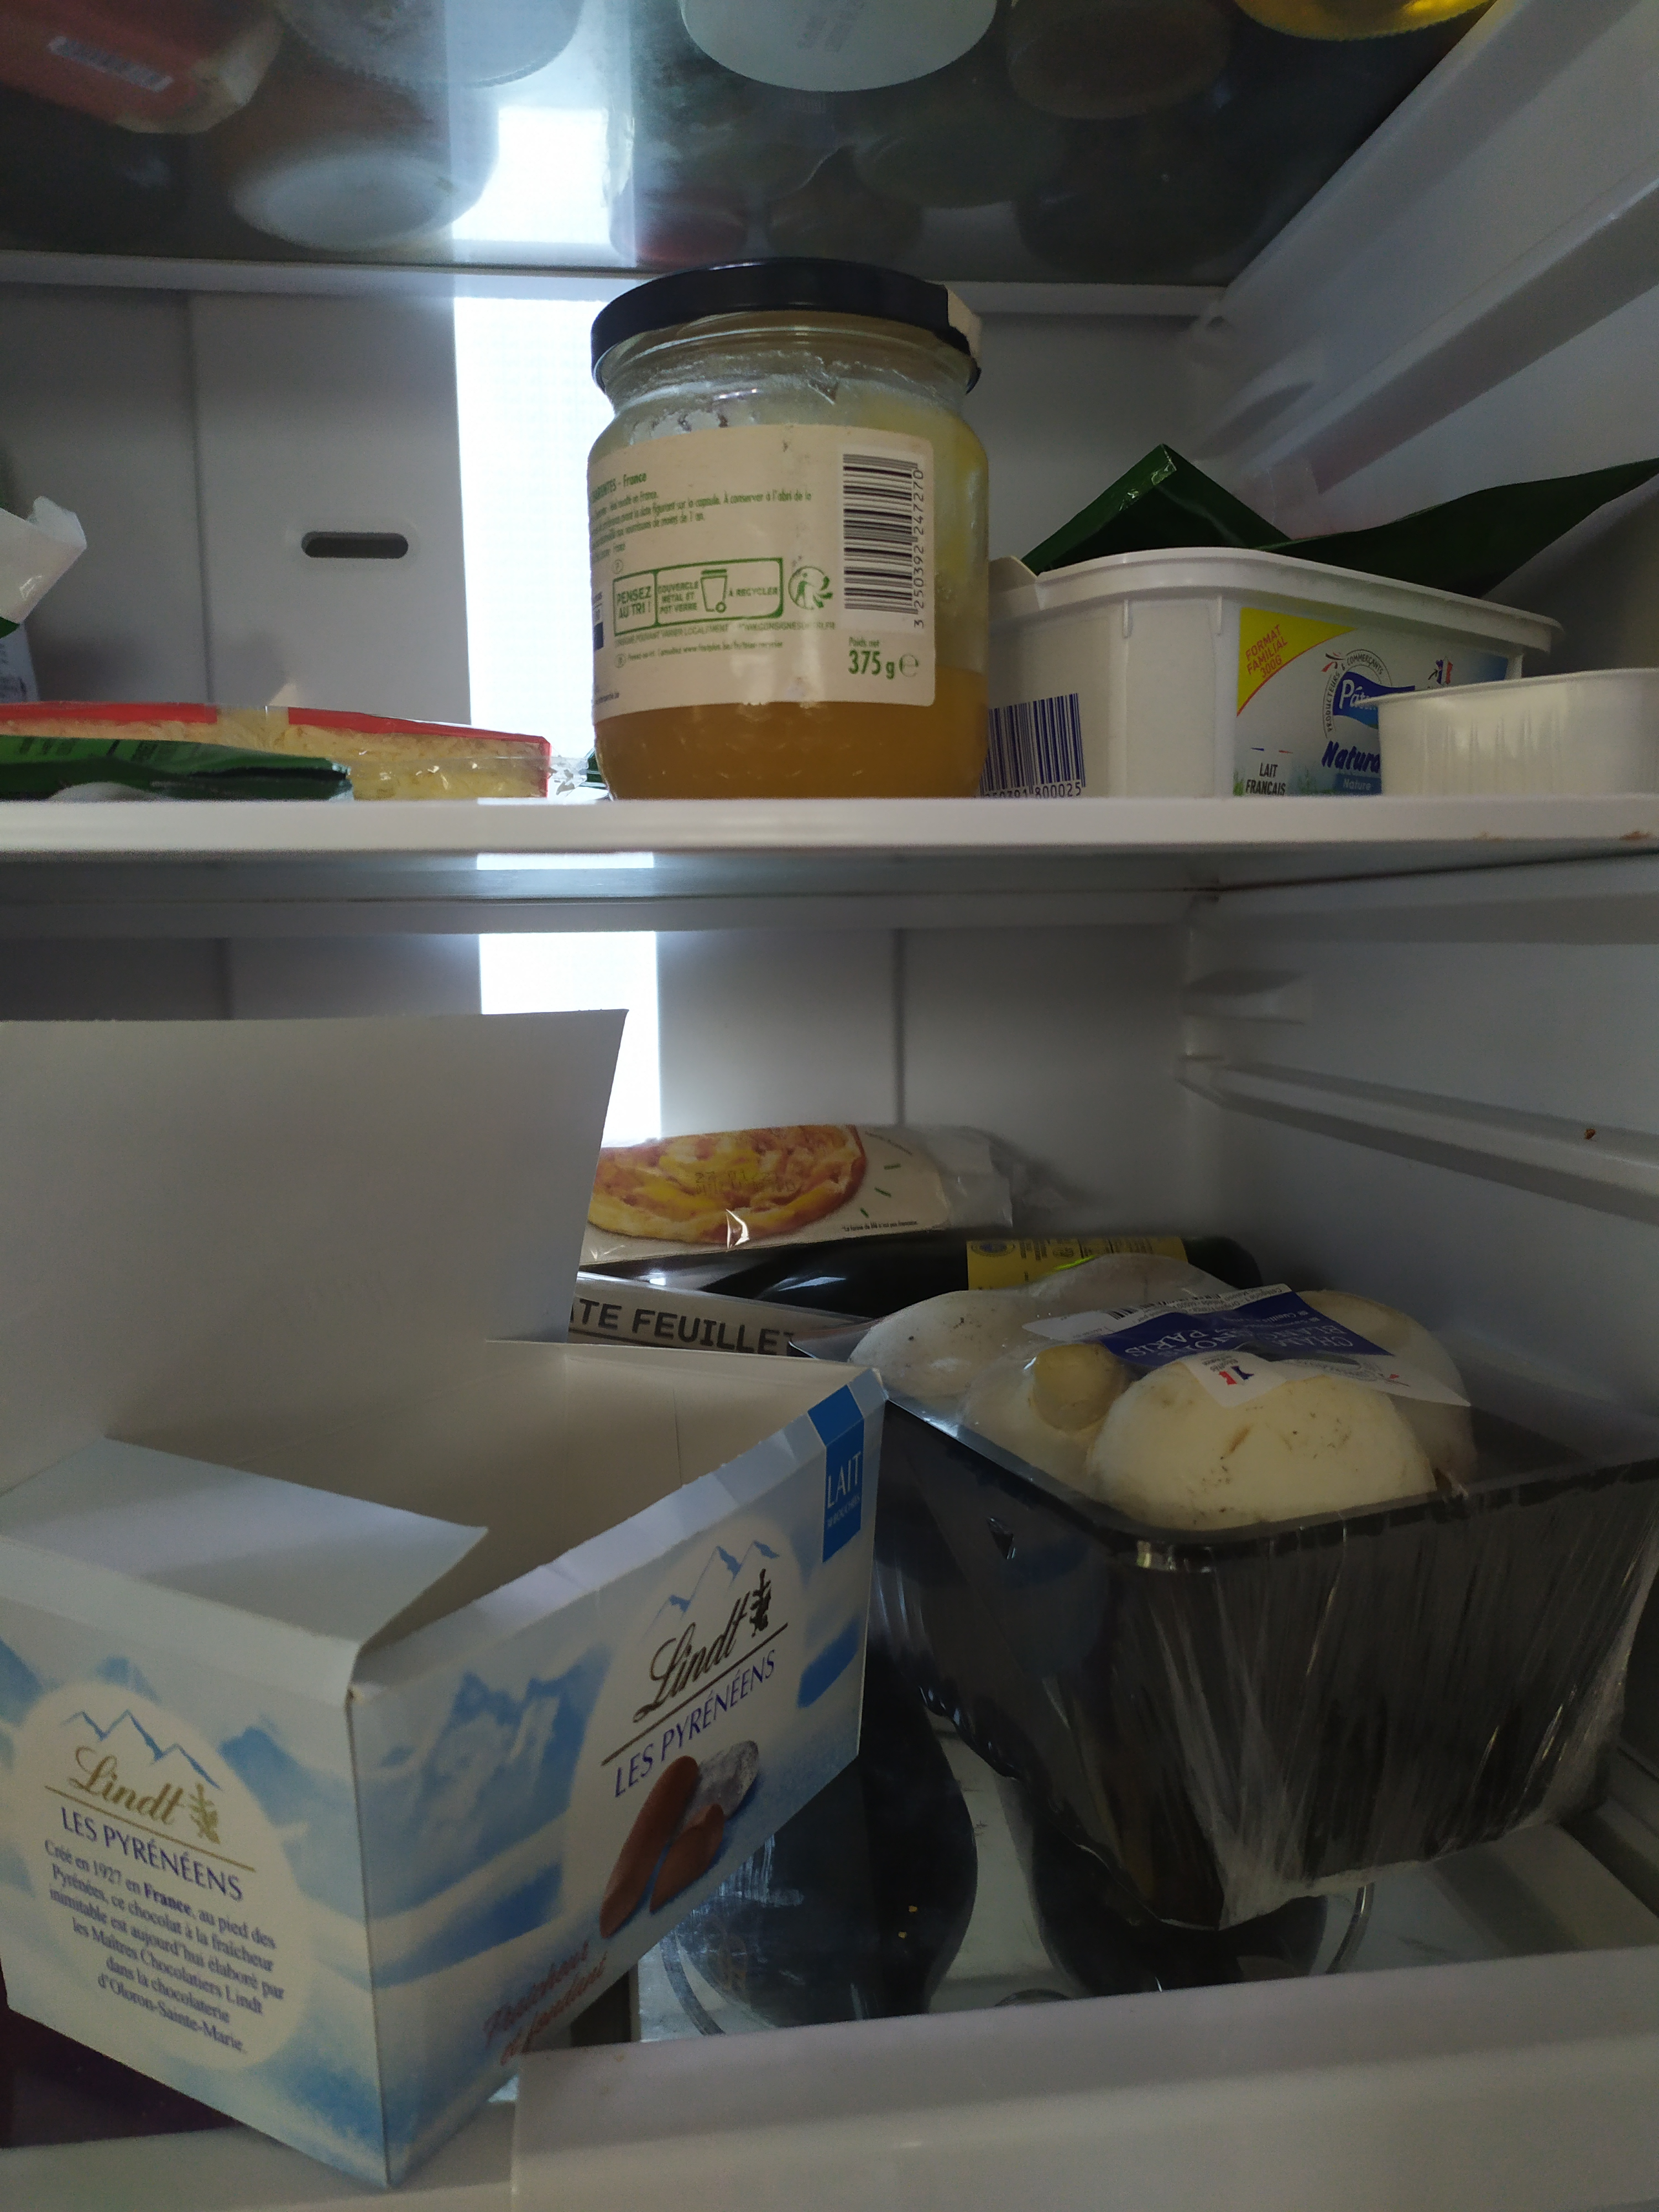bottle: (664, 1244, 1277, 1339)
mushroom: (840, 1251, 1645, 1883)
